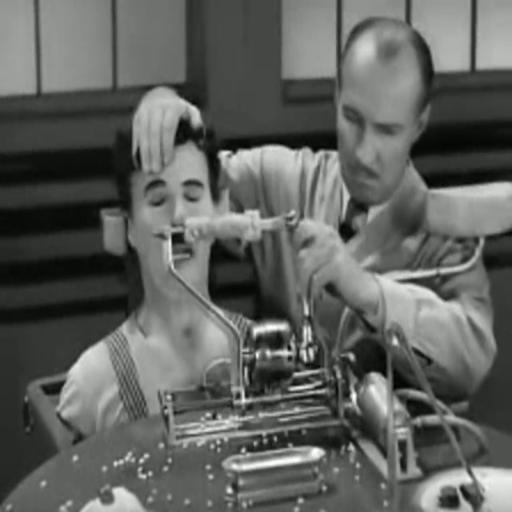nao-violencia: (45, 9, 495, 404)
